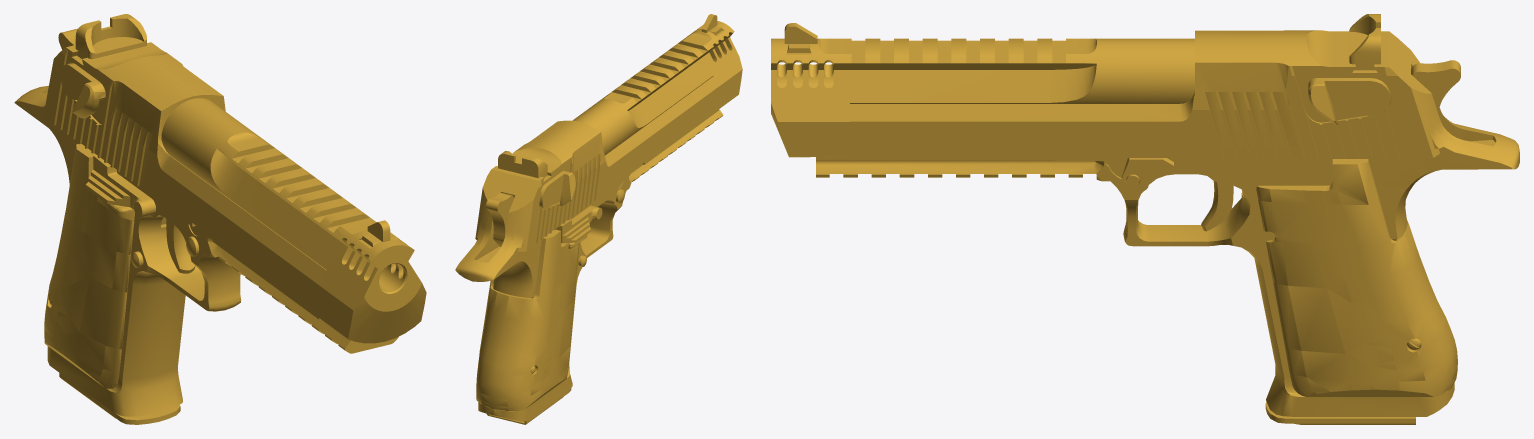
The model's file is golden_deagle.glb.
3 renders of one model, left to right at view 1: azimuth 30°, elevation 25°; view 2: azimuth 150°, elevation 25°; view 3: azimuth 270°, elevation 25°, orthographic. The views are drawn at different scales.
Visible parts, largest first — view 1: Body, SlideVisual, MagazineVisual; view 2: Body, SlideVisual, MagazineVisual; view 3: Body, SlideVisual, MagazineVisual.
Part boxes in pixels (x1=…): Body: x1=14, y1=28, x2=426, y2=416; SlideVisual: x1=43, y1=14, x2=326, y2=319; MagazineVisual: x1=59, y1=217, x2=180, y2=424; Body: x1=455, y1=14, x2=742, y2=421; SlideVisual: x1=475, y1=76, x2=718, y2=251; MagazineVisual: x1=487, y1=388, x2=571, y2=424; Body: x1=771, y1=23, x2=1519, y2=416; SlideVisual: x1=850, y1=14, x2=1439, y2=157; MagazineVisual: x1=1265, y1=401, x2=1415, y2=424.
Bounding box in the file's own units: 0.0479 × 0.1537 × 0.27.
